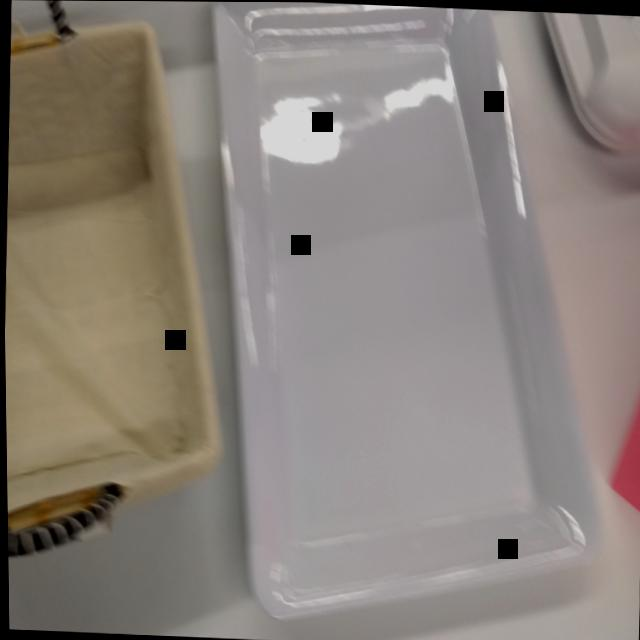basket: (0, 0, 238, 575)
